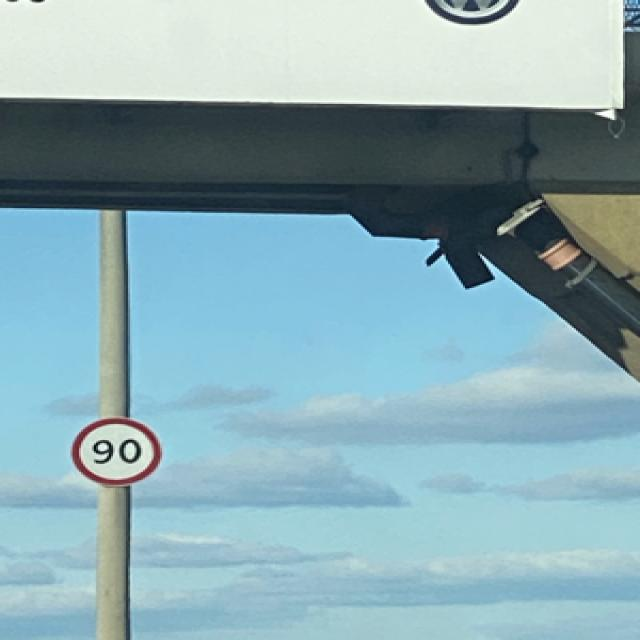speedlimit: (68, 416, 160, 483)
